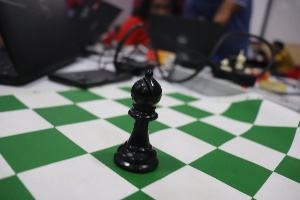black_bishop: (115, 62, 164, 175)
